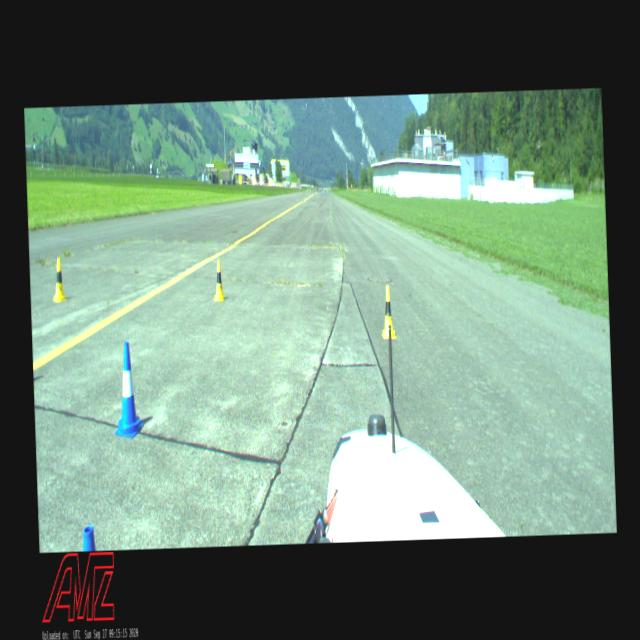blue_cone: (112, 340, 144, 438)
yellow_cone: (380, 283, 396, 339), (51, 258, 66, 302), (212, 260, 225, 300)
